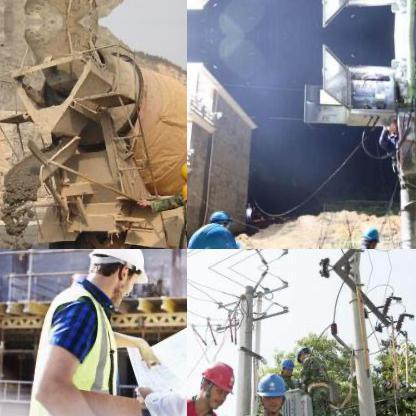Helmet: (85, 249, 148, 307), (196, 355, 236, 409), (255, 367, 287, 415), (190, 219, 239, 248), (360, 221, 379, 249), (210, 208, 232, 230), (292, 342, 312, 362), (278, 354, 294, 376), (180, 178, 186, 214), (176, 161, 186, 181)
